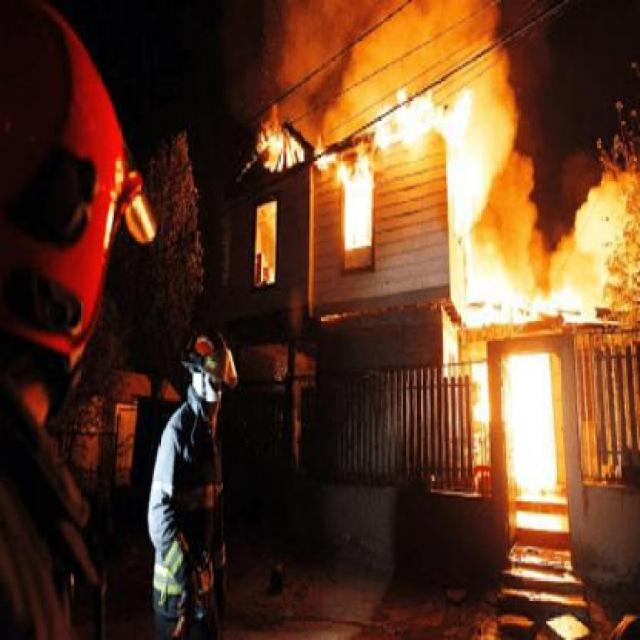Fire: (365, 78, 597, 323), (503, 354, 558, 494), (255, 120, 308, 173), (343, 165, 369, 248), (474, 364, 488, 428), (318, 153, 334, 170)
